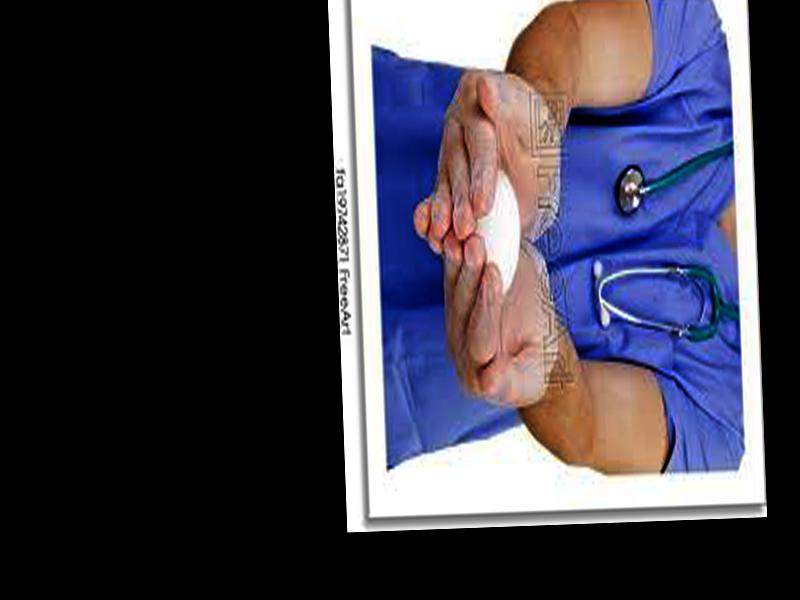Eggs: (470, 172, 522, 296)
